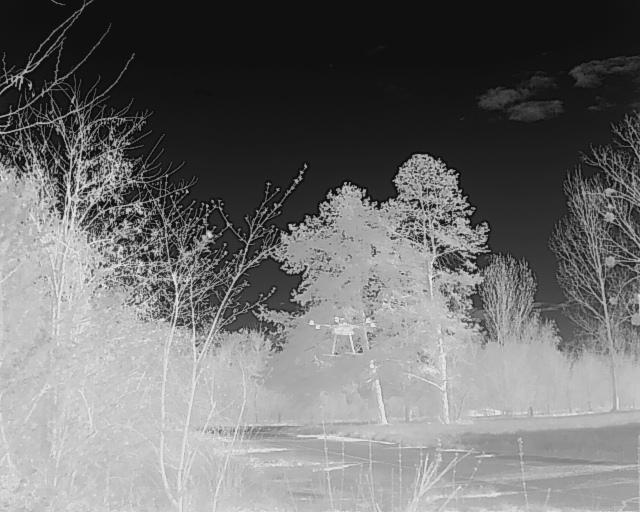drone: (306, 310, 379, 367)
